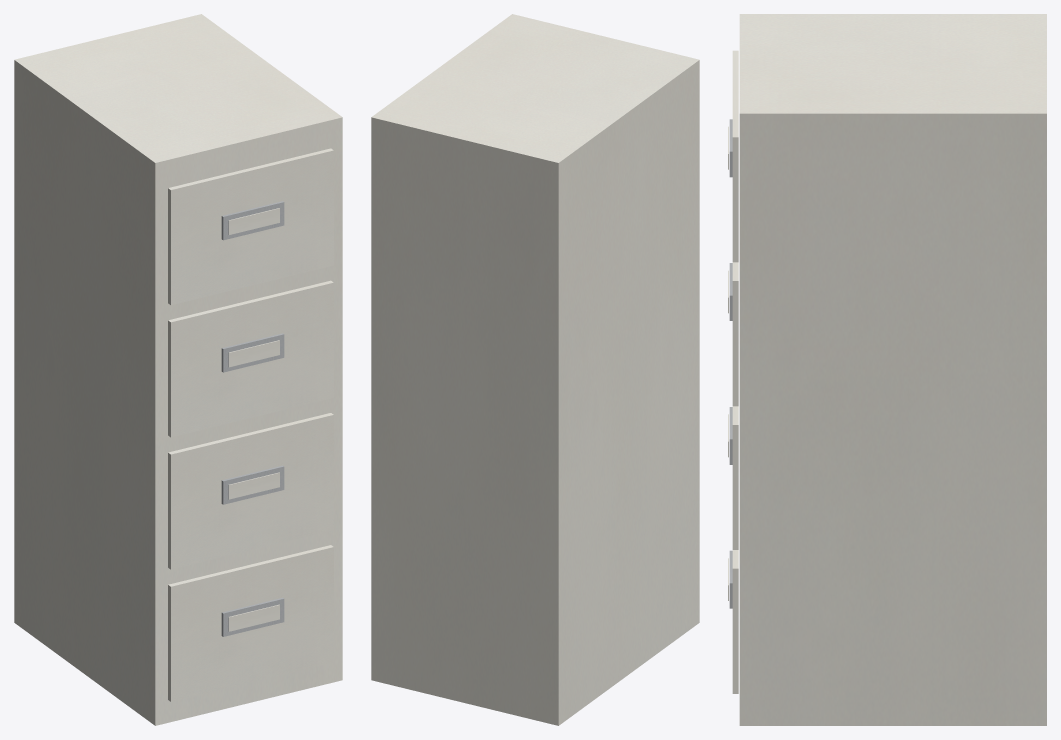
Rendered from filing_cabinet_closed.glb.
3 views of the same model, side by side, from view 1: azimuth 30°, elevation 25°; view 2: azimuth 150°, elevation 25°; view 3: azimuth 270°, elevation 25° (orthographic). The views are drawn at different scales.
Parts seen in each view (by area): view 1: Straight steel cabinet shell, Drawer 1 matching face, Drawer 2 matching face, Drawer 3 matching face, Drawer 4 matching face, Drawer 2 recessed label frame, Drawer 3 recessed label frame, Drawer 1 recessed label frame, Drawer 4 recessed label frame, Drawer 1 blank label insert, Drawer 2 blank label insert, Drawer 4 blank label insert (+1 smaller); view 2: Straight steel cabinet shell; view 3: Straight steel cabinet shell, Drawer 4 matching face, Drawer 3 matching face, Drawer 1 matching face, Drawer 2 matching face.
Boxes of the visible parts, x1=… form: Straight steel cabinet shell: x1=14, y1=14, x2=342, y2=725; Drawer 1 matching face: x1=168, y1=545, x2=333, y2=701; Drawer 2 matching face: x1=168, y1=413, x2=333, y2=569; Drawer 3 matching face: x1=168, y1=280, x2=333, y2=437; Drawer 4 matching face: x1=168, y1=148, x2=333, y2=305; Drawer 2 recessed label frame: x1=221, y1=465, x2=284, y2=504; Drawer 3 recessed label frame: x1=221, y1=333, x2=284, y2=372; Drawer 1 recessed label frame: x1=221, y1=597, x2=284, y2=636; Drawer 4 recessed label frame: x1=221, y1=201, x2=284, y2=240; Drawer 1 blank label insert: x1=228, y1=604, x2=279, y2=631; Drawer 2 blank label insert: x1=228, y1=472, x2=279, y2=499; Drawer 4 blank label insert: x1=228, y1=208, x2=279, y2=234; Straight steel cabinet shell: x1=371, y1=14, x2=699, y2=725; Straight steel cabinet shell: x1=739, y1=14, x2=1046, y2=725; Drawer 4 matching face: x1=732, y1=50, x2=738, y2=262; Drawer 3 matching face: x1=732, y1=262, x2=738, y2=406; Drawer 1 matching face: x1=732, y1=550, x2=738, y2=693; Drawer 2 matching face: x1=732, y1=406, x2=738, y2=549.
Bounding box in the file's own units: 0.46 × 1.32 × 0.623.
3 materials, 2 textured.
